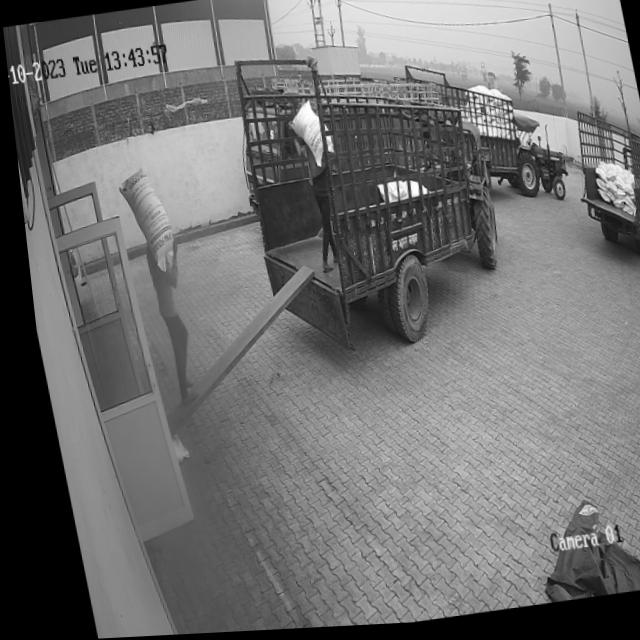sack: (111, 167, 173, 277)
